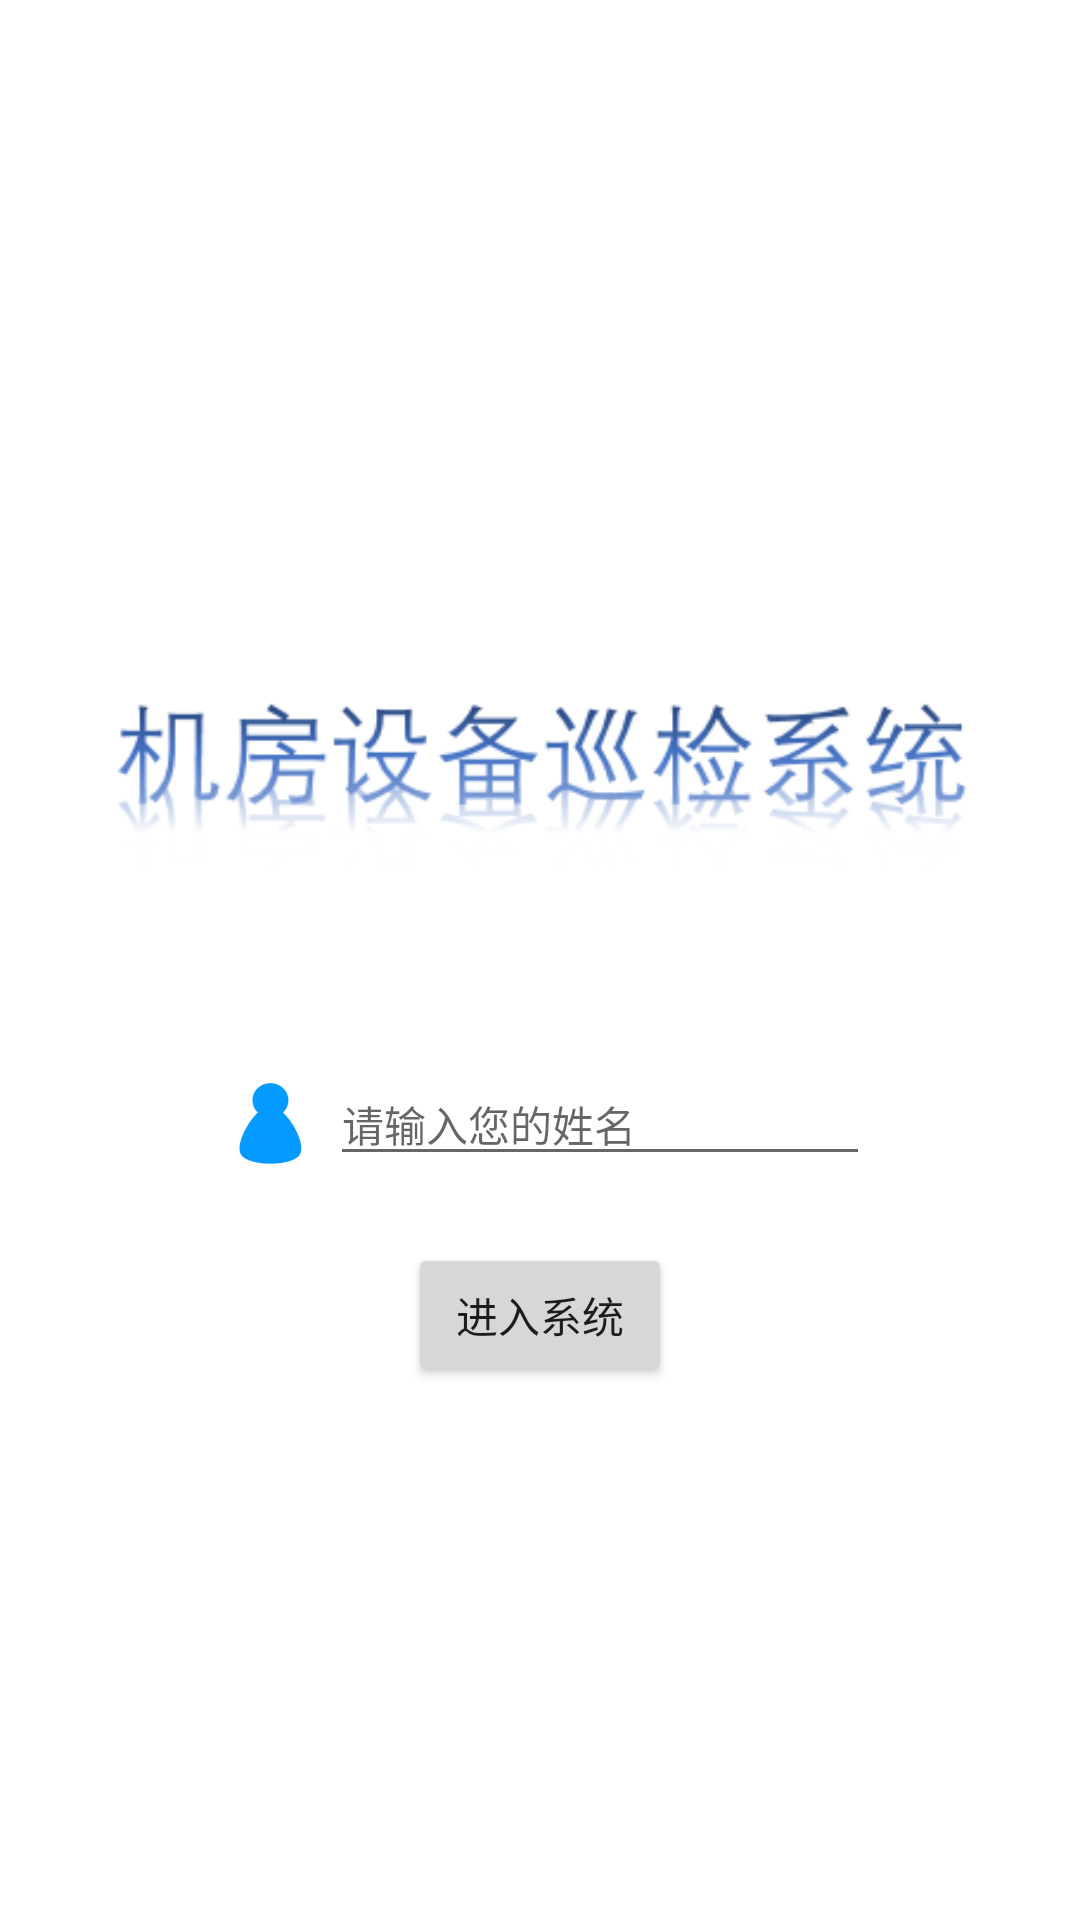

Icons on this 1080x1920 Android screen, each with the point to tap as (x=x, y=y):
user: (x=270, y=1123)
